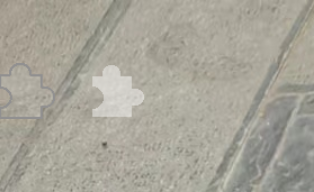target: (87, 63, 146, 119)
